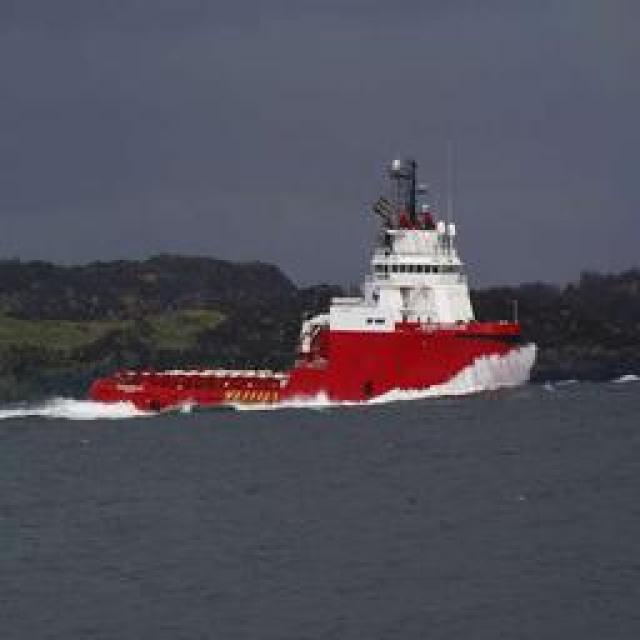ship2: (90, 142, 539, 415)
